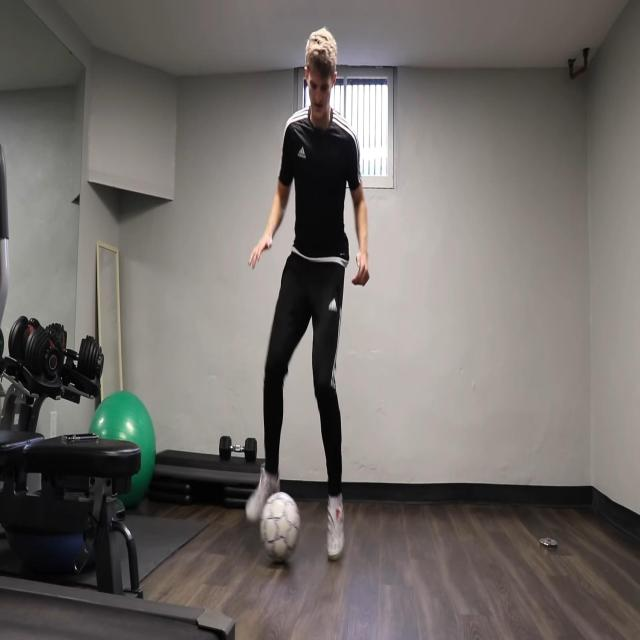Soccer Ball: (261, 492, 300, 563)
